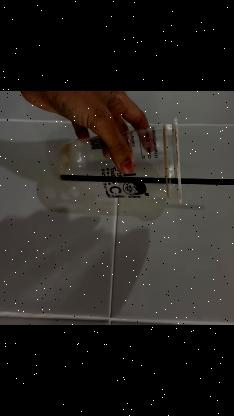Others: (56, 118, 214, 206)
